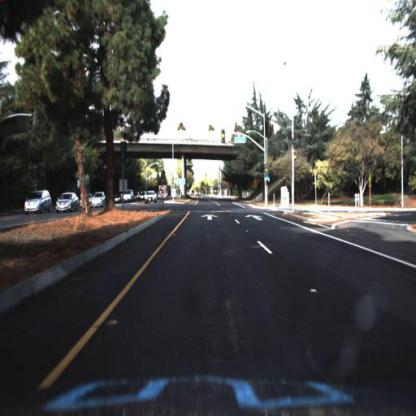car: (26, 191, 52, 216), (56, 191, 81, 212), (88, 190, 108, 212), (123, 189, 137, 204), (144, 191, 157, 205)
trafficLight-Yellow: (292, 149, 301, 167), (221, 128, 226, 148), (265, 161, 270, 177), (294, 148, 299, 164)
